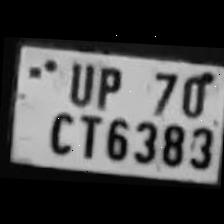0: (176, 66, 212, 117)
3: (183, 118, 216, 170), (128, 112, 160, 162)
6: (99, 110, 131, 160)
7: (144, 64, 177, 113)
8: (156, 116, 186, 166)
C: (42, 104, 78, 155)
P: (92, 58, 125, 108)
T: (72, 108, 102, 156)
U: (60, 56, 94, 104)
